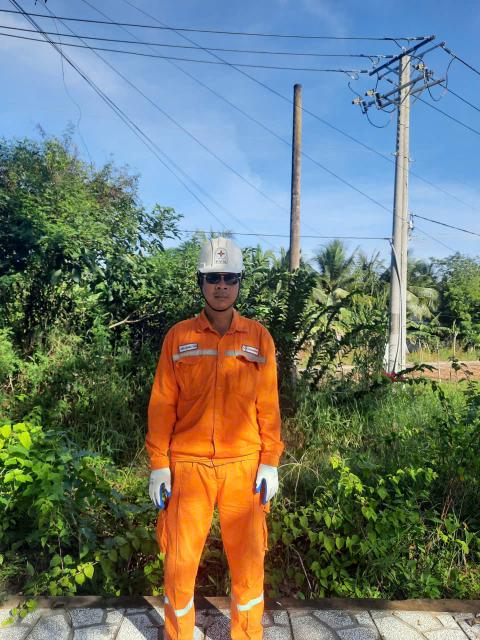gloves: (141, 458, 181, 519), (248, 456, 288, 504)
helmet: (189, 226, 249, 286)
